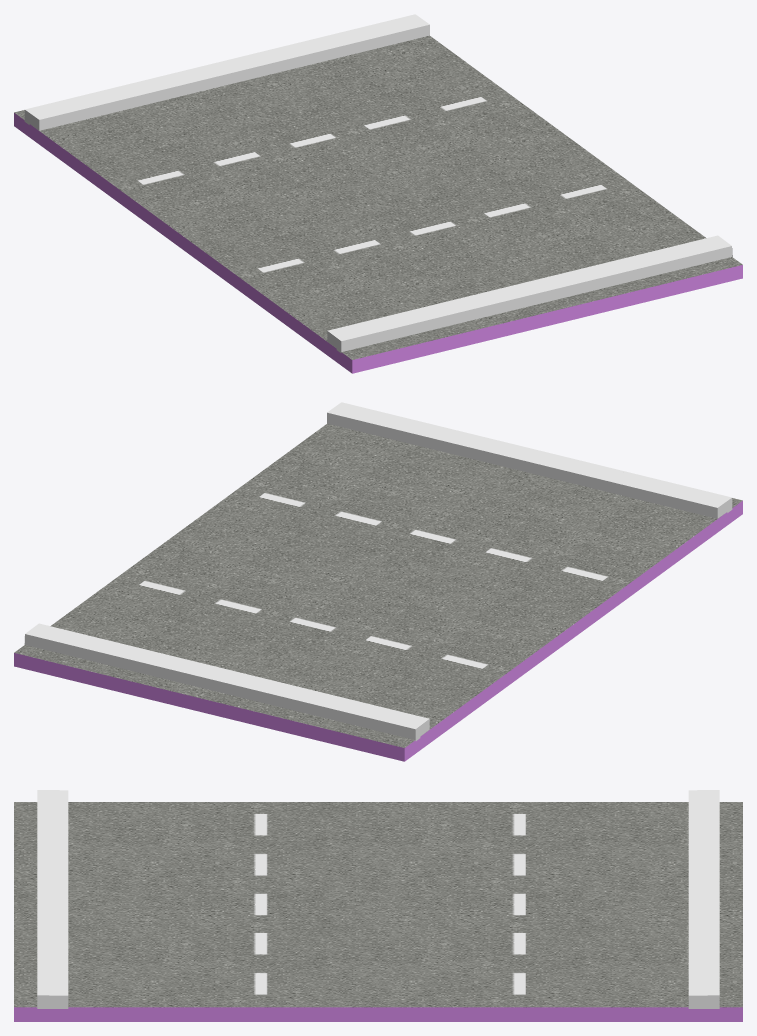
The model's file is Road3.FBX.
The picture shows the model from 3 angles, top to bottom: view 1: azimuth 30°, elevation 25°; view 2: azimuth 150°, elevation 25°; view 3: azimuth 270°, elevation 25°; orthographic projection. The views are drawn at different scales.
Visible parts, largest first — view 1: Road, Line5_ncl1_1, Line5, Line6, Line6_ncl1_1, Line4_ncl1_1, Line4, Line8_ncl1_1, Line8, Line7_ncl1_1, Line7, Line3_ncl1_1 (+9 smaller); view 2: Road, Line5, Line5_ncl1_1, Line6, Line6_ncl1_1, Line4, Line4_ncl1_1, Line8, Line8_ncl1_1, Line7, Line7_ncl1_1, Line3 (+9 smaller); view 3: Road, Line10, Line10_ncl1_1, Line5, Line5_ncl1_1, Line6, Line4, Line4_ncl1_1, Line6_ncl1_1, Line8, Line8_ncl1_1, Line7 (+9 smaller).
Part boxes in pixels (left/top/right/bottom): Road: left=14, top=35, right=742, bottom=373; Line5_ncl1_1: left=477, top=282, right=539, bottom=315; Line5: left=175, top=61, right=236, bottom=94; Line6: left=223, top=50, right=280, bottom=82; Line6_ncl1_1: left=525, top=272, right=582, bottom=303; Line4_ncl1_1: left=434, top=294, right=491, bottom=325; Line4: left=132, top=73, right=189, bottom=104; Line8_ncl1_1: left=609, top=252, right=663, bottom=283; Line8: left=306, top=31, right=360, bottom=61; Line7_ncl1_1: left=569, top=262, right=622, bottom=293; Line7: left=266, top=41, right=320, bottom=71; Line3_ncl1_1: left=395, top=305, right=448, bottom=335; Road: left=14, top=423, right=742, bottom=761; Line5: left=217, top=670, right=279, bottom=703; Line5_ncl1_1: left=520, top=449, right=581, bottom=482; Line6: left=174, top=660, right=231, bottom=691; Line6_ncl1_1: left=476, top=438, right=533, bottom=470; Line4: left=265, top=682, right=322, bottom=713; Line4_ncl1_1: left=567, top=461, right=624, bottom=492; Line8: left=93, top=640, right=147, bottom=671; Line8_ncl1_1: left=396, top=419, right=450, bottom=449; Line7: left=134, top=650, right=187, bottom=681; Line7_ncl1_1: left=436, top=429, right=490, bottom=459; Line3: left=308, top=693, right=361, bottom=723; Road: left=14, top=802, right=742, bottom=1021; Line10: left=688, top=978, right=719, bottom=1008; Line10_ncl1_1: left=37, top=978, right=68, bottom=1008; Line5: left=688, top=869, right=719, bottom=893; Line5_ncl1_1: left=37, top=869, right=68, bottom=893; Line6: left=688, top=894, right=719, bottom=916; Line4: left=688, top=846, right=719, bottom=868; Line4_ncl1_1: left=37, top=846, right=68, bottom=868; Line6_ncl1_1: left=37, top=894, right=68, bottom=916; Line8: left=688, top=938, right=719, bottom=959; Line8_ncl1_1: left=37, top=938, right=68, bottom=959; Line7: left=688, top=917, right=719, bottom=937.
Size of the model in its own units: 601 by 36.05 by 900.
